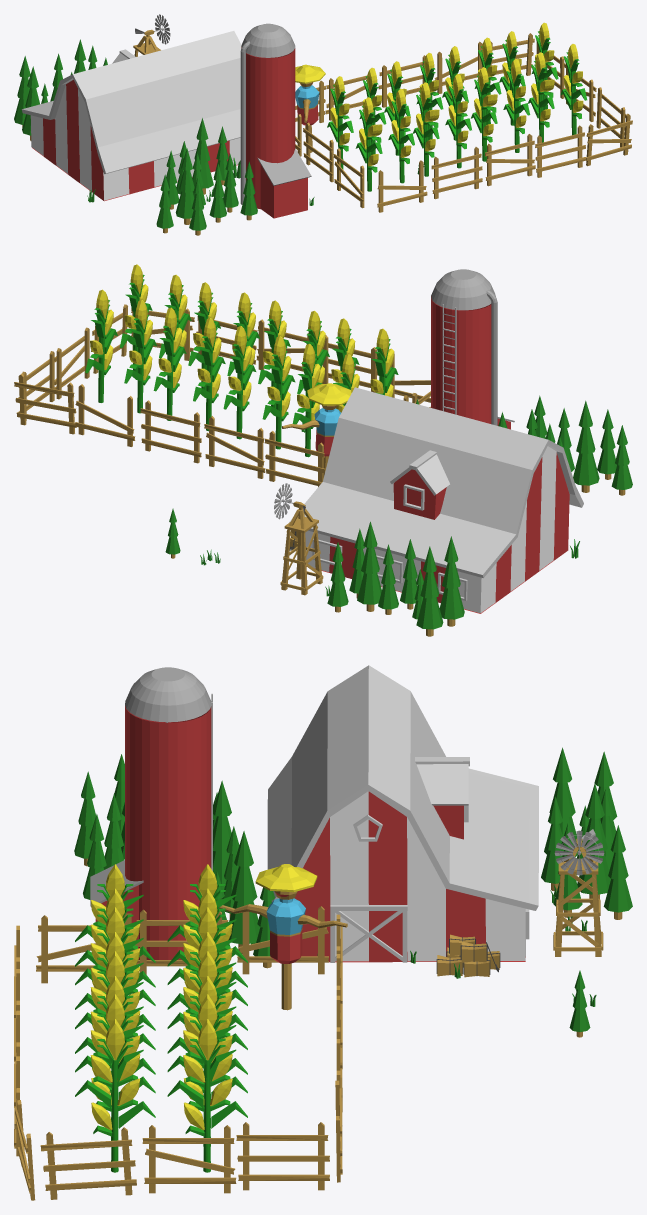
Rendered from farm.glb.
The picture shows the model from 3 angles, top to bottom: view 1: azimuth 30°, elevation 25°; view 2: azimuth 150°, elevation 25°; view 3: azimuth 270°, elevation 25°; orthographic projection. The views are drawn at different scales.
Parts seen in each view (by area): view 1: Object_32; view 2: Object_32; view 3: Object_32.
Boxes of the visible parts, x1=… form: Object_32: x1=14, y1=14, x2=632, y2=235; Object_32: x1=14, y1=264, x2=632, y2=636; Object_32: x1=14, y1=665, x2=632, y2=1200.
Size of the model in its own units: 274 by 99.68 by 199.
